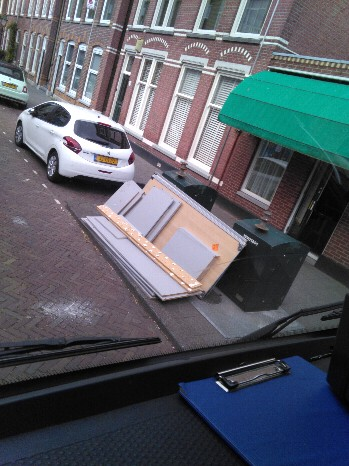Container: (244, 216, 300, 303), (170, 166, 210, 206)
Rest: (122, 179, 237, 291)
Voertuig: (33, 95, 141, 187), (3, 60, 34, 98)
